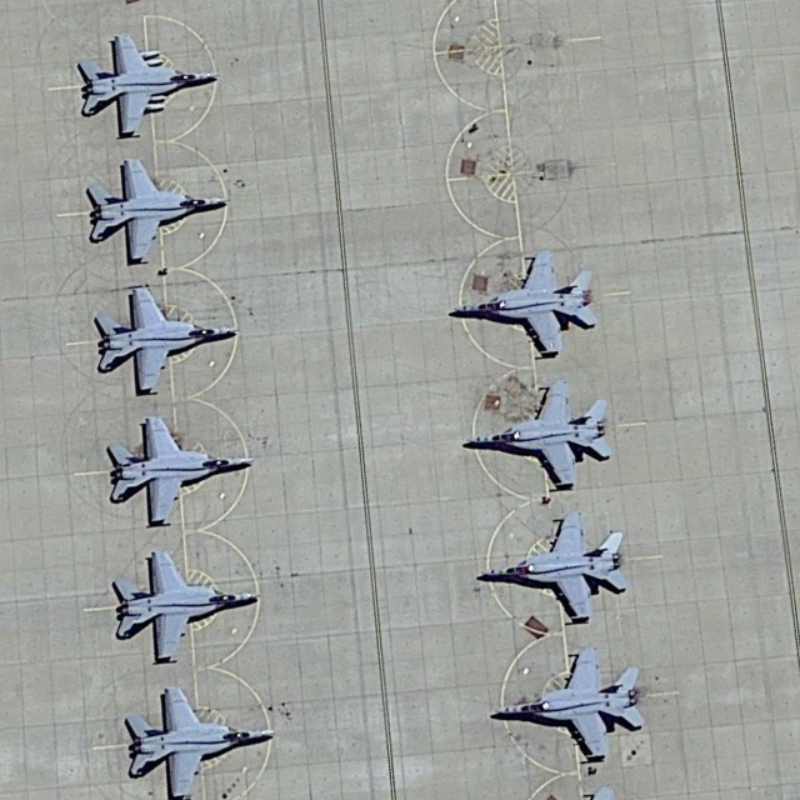A16: (485, 641, 658, 766), (467, 504, 634, 628), (456, 372, 618, 498), (441, 239, 604, 363), (101, 543, 264, 667), (84, 278, 243, 401), (117, 680, 281, 798), (99, 413, 256, 534), (76, 152, 232, 273), (75, 28, 223, 144)
